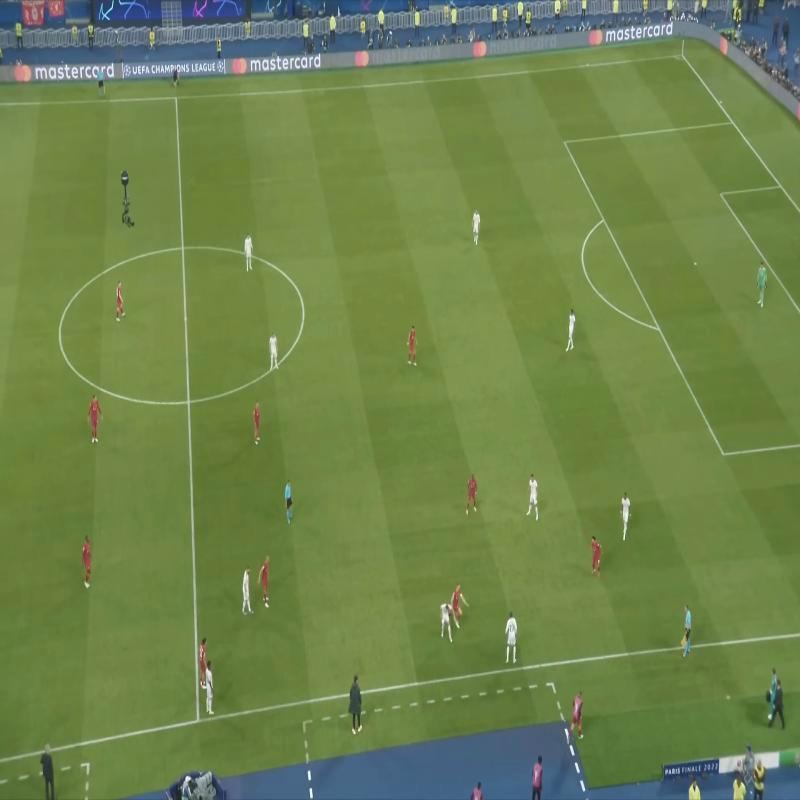1: (676, 49, 690, 64)
10: (596, 212, 612, 229)
11: (650, 320, 668, 338)
12: (716, 446, 732, 464)
13: (170, 90, 183, 108)
14: (176, 242, 191, 255)
15: (180, 394, 198, 411)
16: (187, 711, 210, 730)
2: (726, 111, 740, 134)
3: (773, 178, 788, 194)
7: (716, 184, 728, 204)
9: (558, 136, 572, 150)
c: (50, 324, 70, 342), (296, 305, 312, 320)
